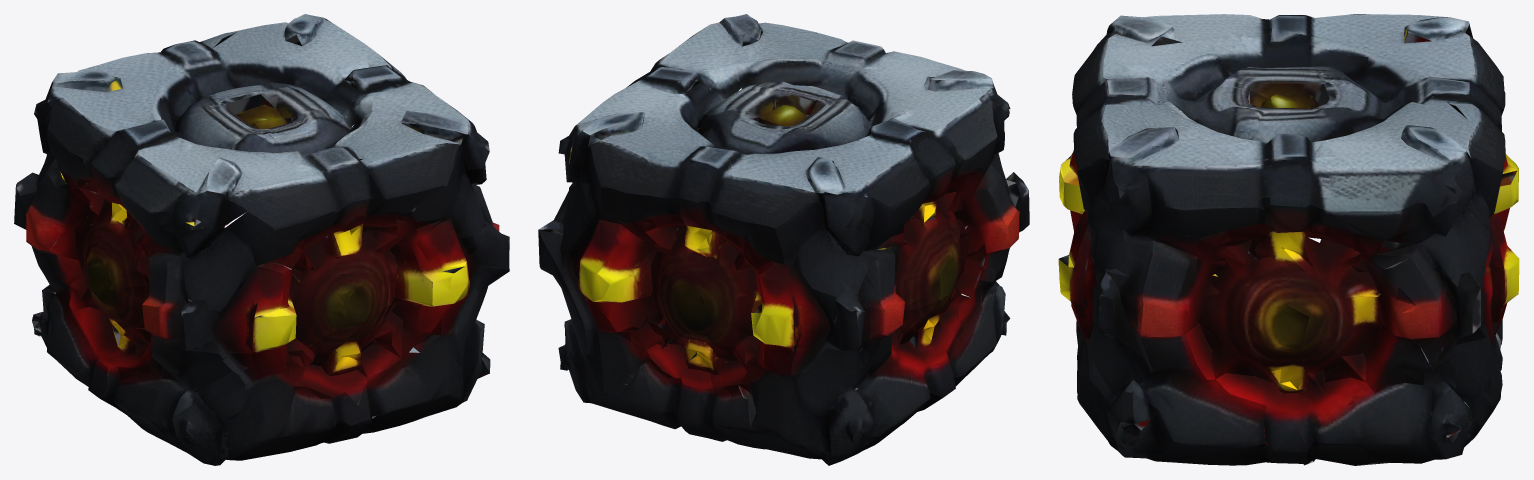
The model's file is core_guardian.glb.
The picture shows the model from 3 angles, left to right: view 1: azimuth 30°, elevation 25°; view 2: azimuth 150°, elevation 25°; view 3: azimuth 270°, elevation 25°; orthographic projection. The views are drawn at different scales.
Parts seen in each view (by area): view 1: geometry_0; view 2: geometry_0; view 3: geometry_0.
Part boxes in pixels (box(x1,y1,x2,y2)): geometry_0: box(14, 14, 509, 465); geometry_0: box(538, 14, 1029, 465); geometry_0: box(1058, 14, 1519, 465).
Size of the model in its own units: 1.01 by 0.8364 by 1.07.
1 material, 1 textured.
